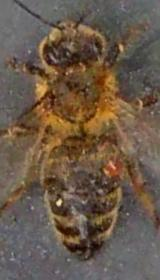varroa_mite: (96, 154, 124, 176)
